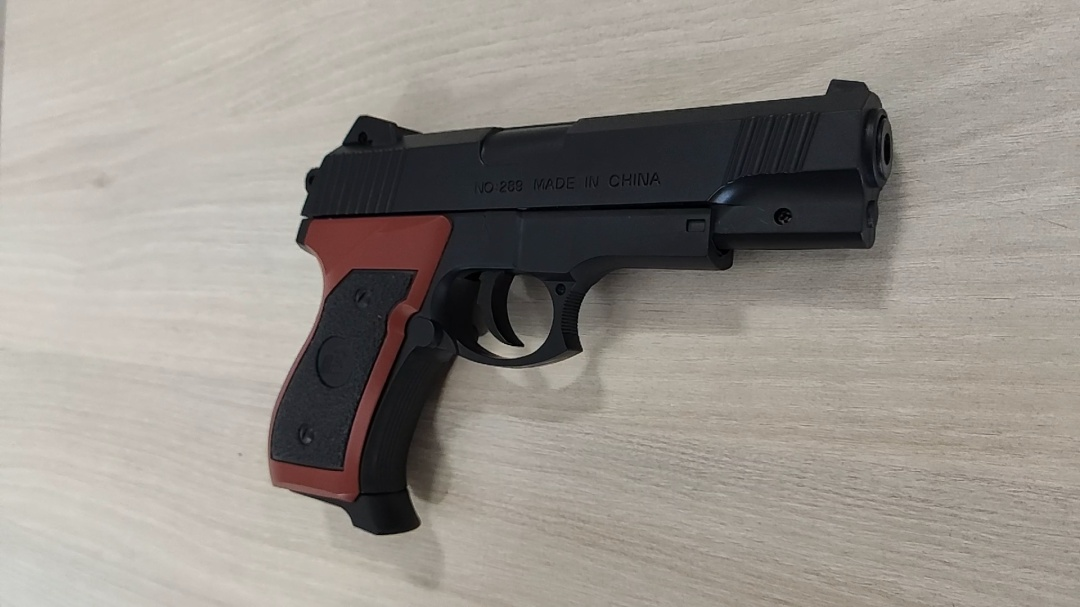gun: (589, 214, 755, 282)
